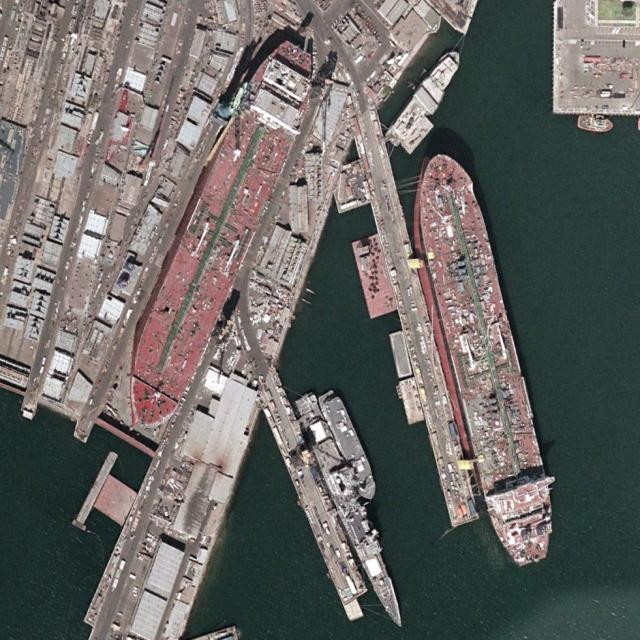Cargo: (106, 24, 328, 443), (395, 140, 572, 578)
Cruiser: (293, 389, 409, 632)
Hovercraft: (577, 113, 613, 133)
Other Warship: (318, 386, 380, 504)
